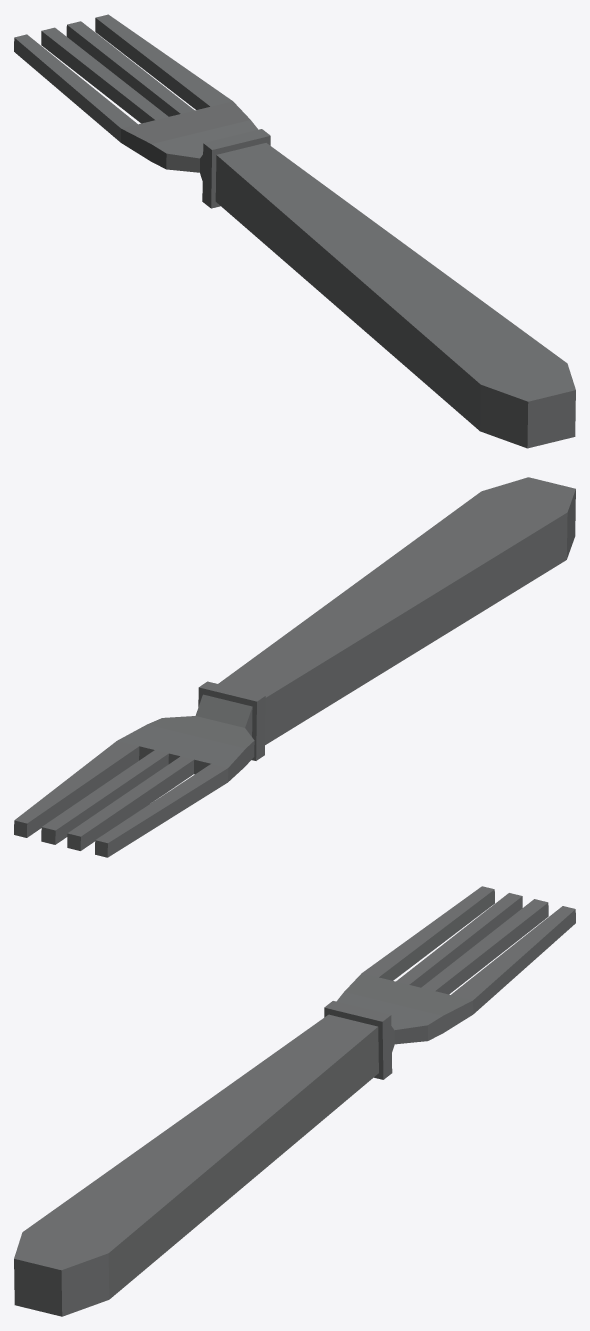
Rendered from _ork.fbx.
3 renders of one model, top to bottom at view 1: azimuth 30°, elevation 25°; view 2: azimuth 150°, elevation 25°; view 3: azimuth 330°, elevation 25°, orthographic.
Visible parts, largest first — view 1: Cube.265; view 2: Cube.265; view 3: Cube.265.
Boxes of the visible parts, left/top/right/bottom form: Cube.265: left=14, top=14, right=575, bottom=448; Cube.265: left=14, top=477, right=575, bottom=857; Cube.265: left=14, top=886, right=575, bottom=1316.
Size of the model in its own units: 3.71 by 2.21 by 28.23.
